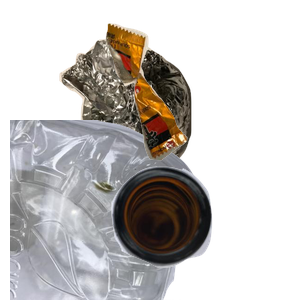glass: (109, 164, 300, 300)
metal: (57, 36, 241, 216)
plastic: (10, 120, 197, 300)
trash: (103, 21, 300, 174)
